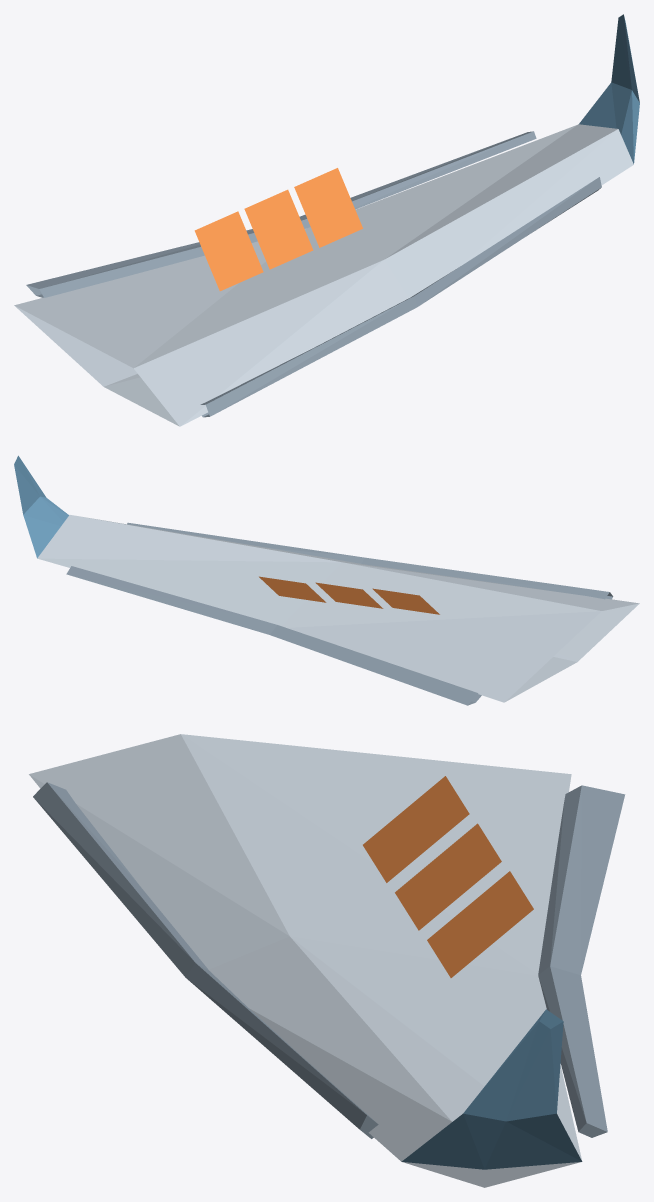
Rendered from spoiler.glb.
3 renders of one model, top to bottom at view 1: azimuth 30°, elevation 25°; view 2: azimuth 150°, elevation 25°; view 3: azimuth 270°, elevation 25°, orthographic. The views are drawn at different scales.
Bounding box in the file's own units: 8.48 × 2.23 × 4.45.
